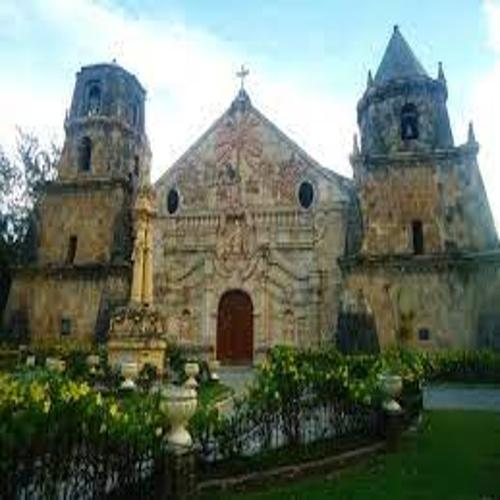Miagao Church: (10, 22, 500, 370)
